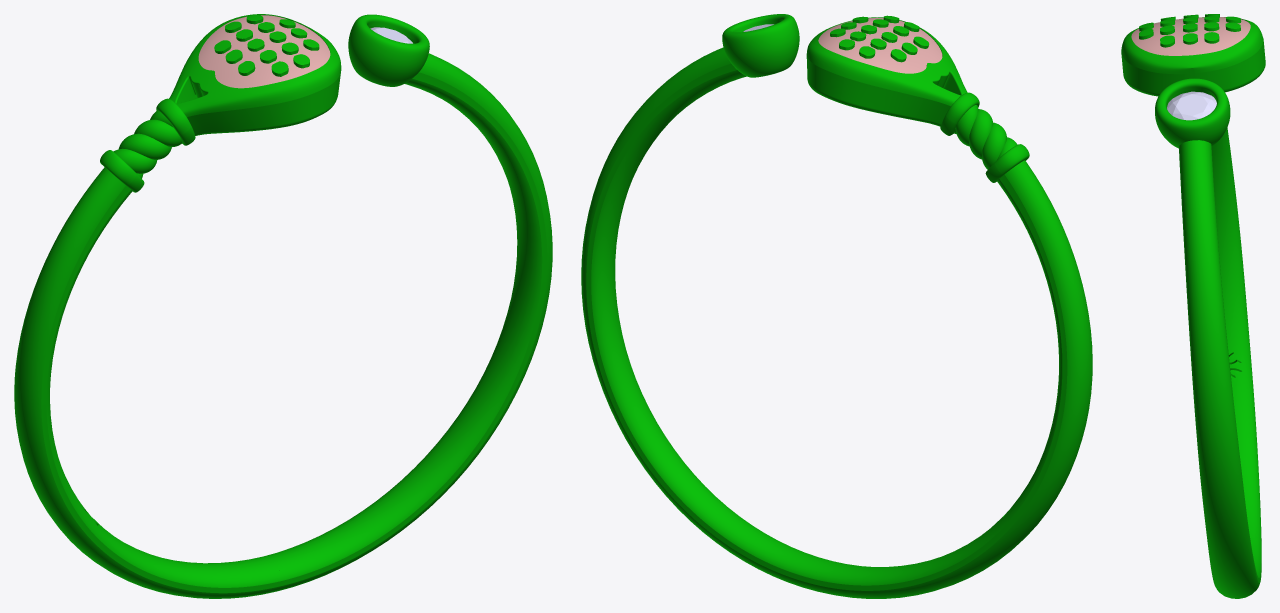
3 views of the same model, side by side, from view 1: azimuth 30°, elevation 25°; view 2: azimuth 150°, elevation 25°; view 3: azimuth 270°, elevation 25° (orthographic). The views are drawn at different scales.
Parts seen in each view (by area): view 1: RNG-2509084.3dm; view 2: RNG-2509084.3dm; view 3: RNG-2509084.3dm.
Part boxes in pixels (bbox=[...]): RNG-2509084.3dm: bbox=[14, 14, 552, 598]; RNG-2509084.3dm: bbox=[581, 14, 1092, 598]; RNG-2509084.3dm: bbox=[1121, 14, 1265, 598].
Size of the model in its own units: 2.73 by 2.84 by 0.6917.
